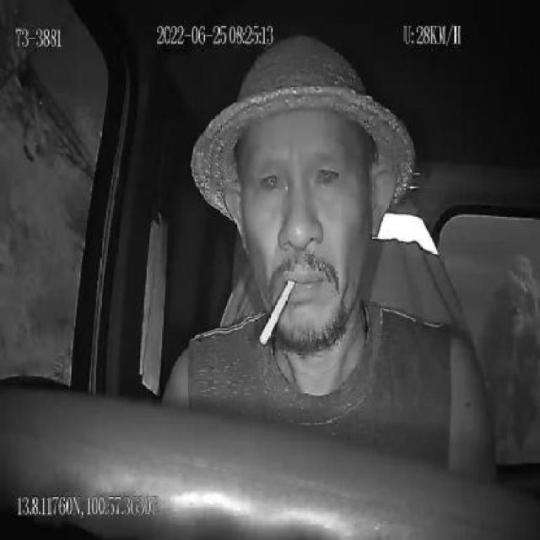smoking: (260, 276, 295, 347)
